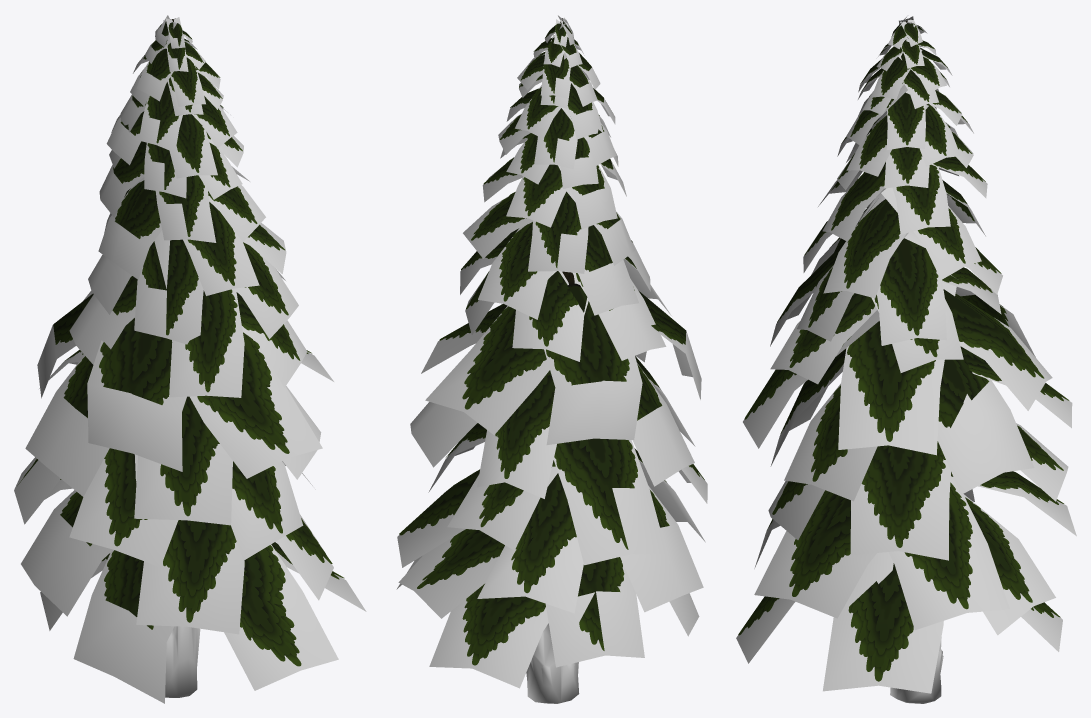
Rendered from tree.fbx.
3 views of the same model, side by side, from view 1: azimuth 30°, elevation 25°; view 2: azimuth 150°, elevation 25°; view 3: azimuth 270°, elevation 25° (orthographic).
Visible parts, largest first — view 1: Fantesy tree, tree4.low; view 2: Fantesy tree, tree4.low; view 3: Fantesy tree, tree4.low.
Boxes of the visible parts, left/top/right/bottom form: Fantesy tree: left=14, top=15, right=366, bottom=703; tree4.low: left=165, top=626, right=200, bottom=697; Fantesy tree: left=396, top=15, right=707, bottom=688; tree4.low: left=526, top=623, right=579, bottom=703; Fantesy tree: left=736, top=16, right=1076, bottom=693; tree4.low: left=890, top=637, right=943, bottom=703.
Size of the model in its own units: 383 by 855 by 391.
